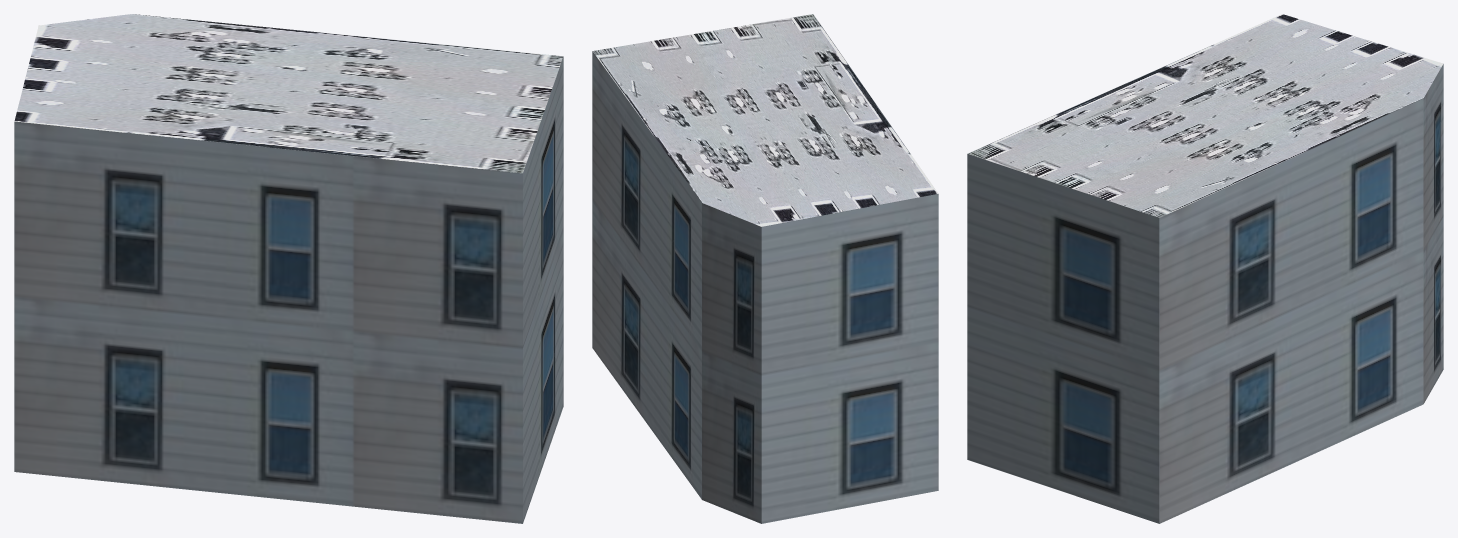
Rendered from ResTex__859.fbx.
The picture shows the model from 3 angles, left to right: view 1: azimuth 30°, elevation 25°; view 2: azimuth 150°, elevation 25°; view 3: azimuth 270°, elevation 25°; orthographic projection. The views are drawn at different scales.
Parts seen in each view (by area): view 1: CityEngineMaterial_18_m, CityEngineMaterial_4_m; view 2: CityEngineMaterial_18_m, CityEngineMaterial_4_m; view 3: CityEngineMaterial_18_m, CityEngineMaterial_4_m.
Boxes of the visible parts, bbox=[...] form: CityEngineMaterial_18_m: bbox=[14, 56, 563, 523]; CityEngineMaterial_4_m: bbox=[14, 14, 563, 173]; CityEngineMaterial_18_m: bbox=[592, 51, 938, 523]; CityEngineMaterial_4_m: bbox=[592, 14, 938, 226]; CityEngineMaterial_18_m: bbox=[967, 64, 1443, 523]; CityEngineMaterial_4_m: bbox=[968, 14, 1442, 217].
Size of the model in its own units: 8.58 by 6 by 8.46.
2 materials, 2 textured.
